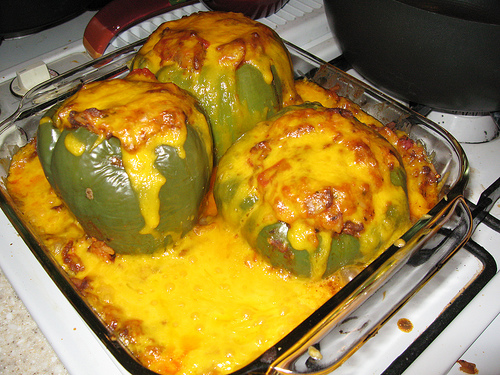capsicum: (212, 101, 413, 280), (37, 68, 212, 256), (129, 12, 296, 164)
